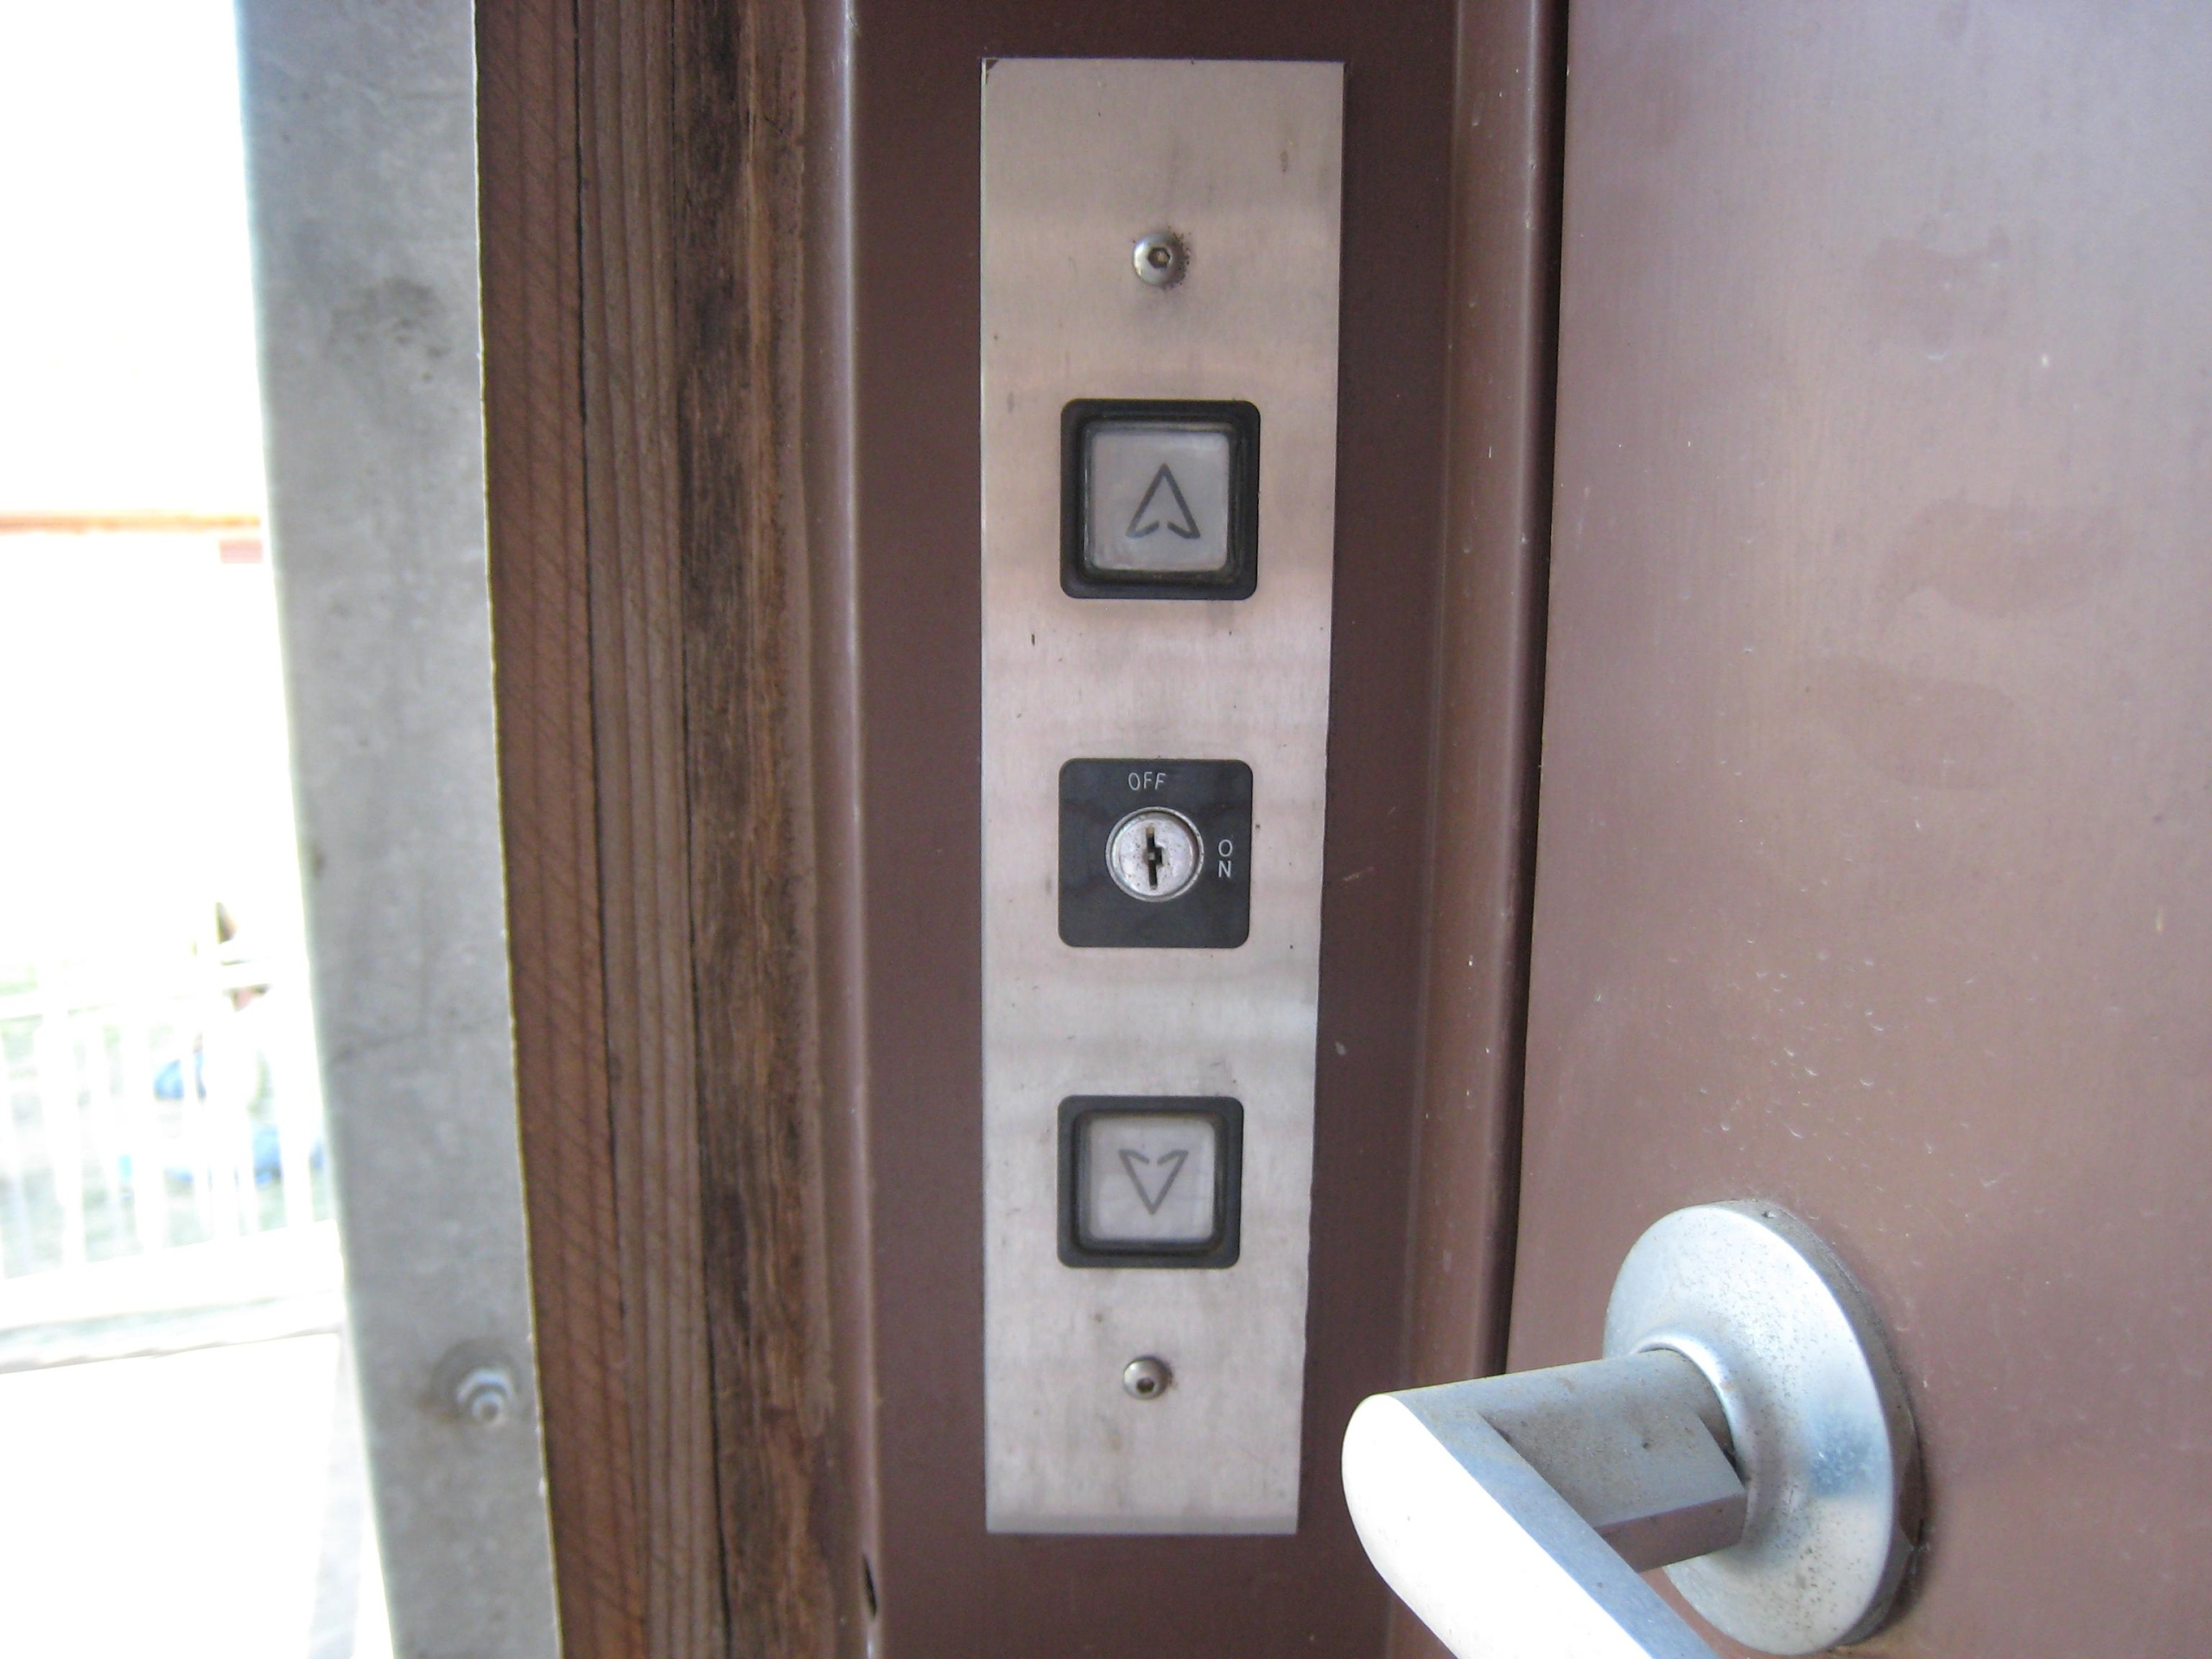bt_keyhole: (1043, 734, 1275, 965)
down: (1054, 1084, 1249, 1274)
up: (1054, 396, 1264, 606)
